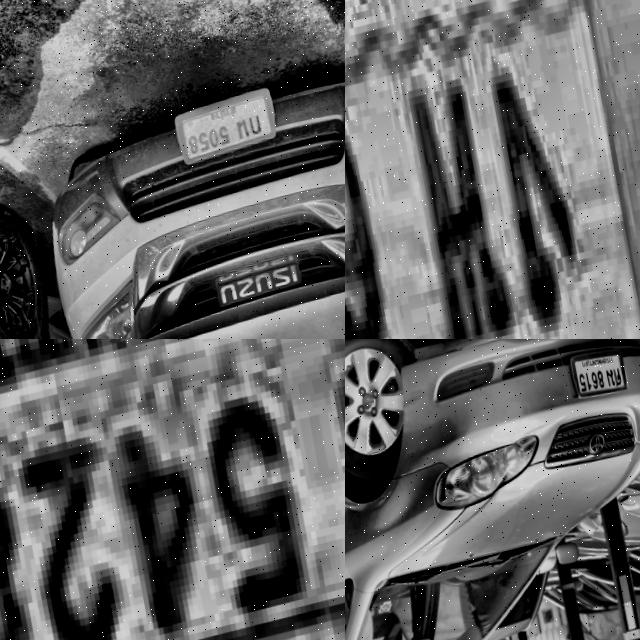license-plate: (0, 339, 345, 640), (345, 0, 640, 339), (169, 91, 280, 169), (566, 348, 628, 412)
